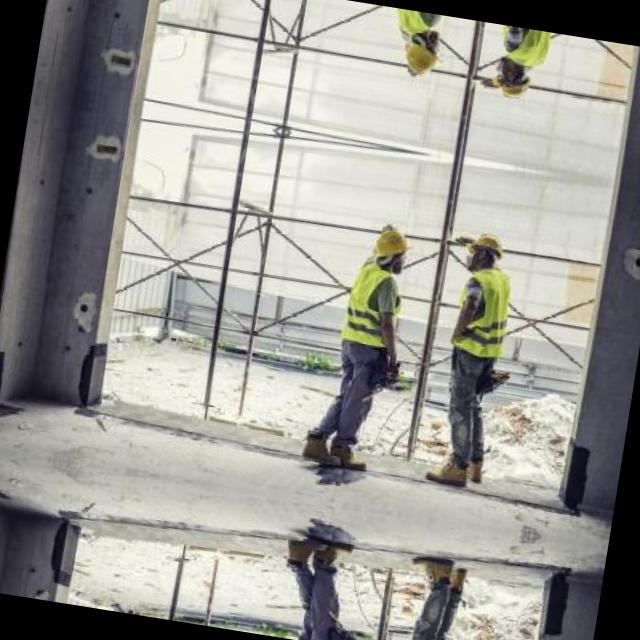helmet: (368, 218, 414, 272), (398, 27, 444, 81), (488, 59, 534, 102), (462, 227, 507, 270)
